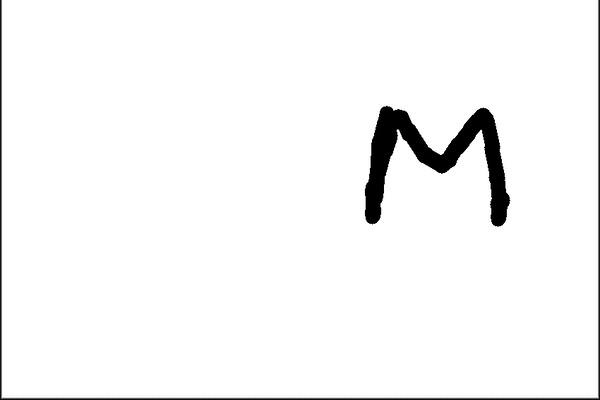M: (365, 98, 510, 229)
